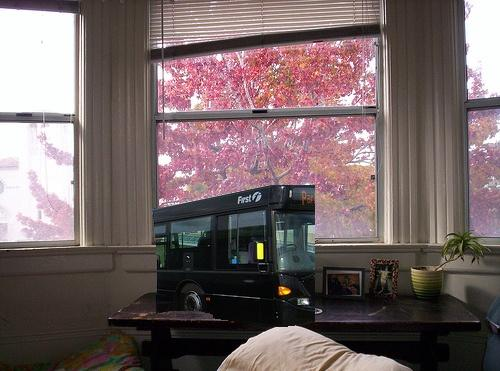tampered: (153, 186, 315, 327)
